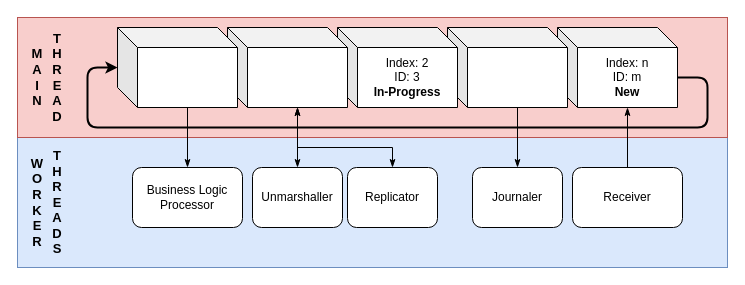
Some shapes in this 745 by 285 pixel diagram are drawn without their labels. Here are the shapes that lost their labels. From the top down, the centre of each, then its label:
point 177,67: Index: 0 ID: 1 Ready
point 287,67: Index: 1 ID: 2 In-Progress
point 507,67: Index: 3 ID: 4 In-Progress
